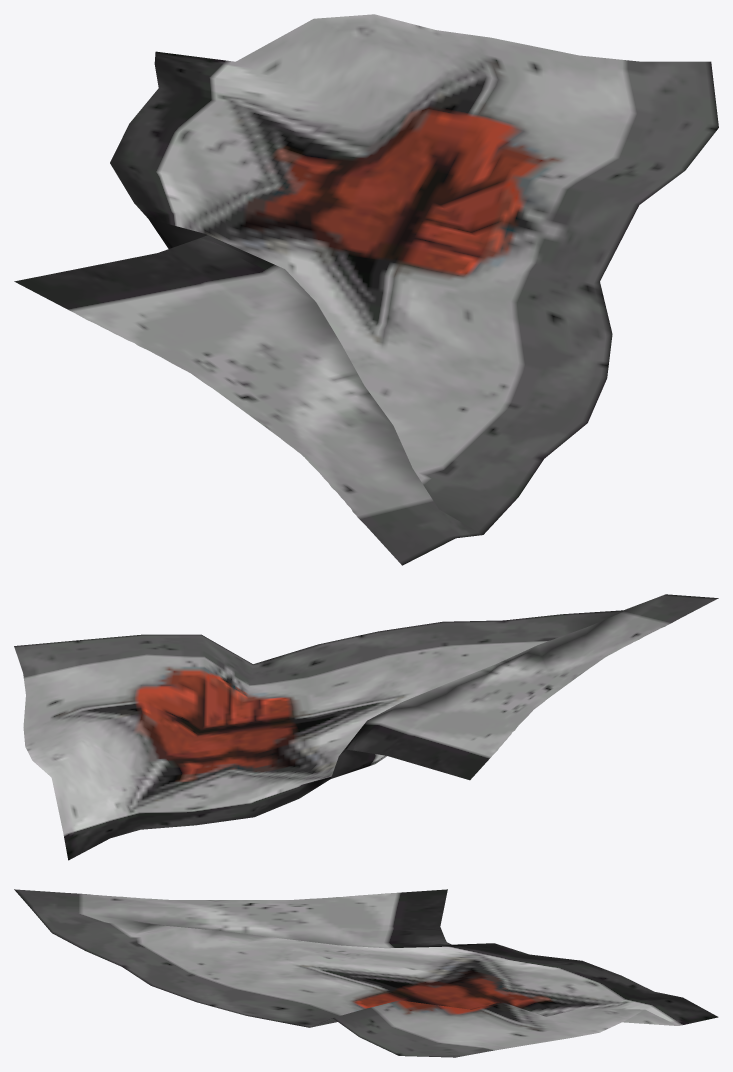
The model's file is nt_2020_flag_arabia_01_LOD0.obj.
3 renders of one model, top to bottom at view 1: azimuth 30°, elevation 25°; view 2: azimuth 150°, elevation 25°; view 3: azimuth 270°, elevation 25°, orthographic. The views are drawn at different scales.
Visible parts, largest first — view 1: mtl_nt_2020_flags_01; view 2: mtl_nt_2020_flags_01; view 3: mtl_nt_2020_flags_01.
Part boxes in pixels (left/top/right/bottom): mtl_nt_2020_flags_01: left=14, top=14, right=718, bottom=565; mtl_nt_2020_flags_01: left=14, top=594, right=718, bottom=860; mtl_nt_2020_flags_01: left=14, top=889, right=718, bottom=1057.
Bounding box in the file's own units: 225 × 25.63 × 348.
